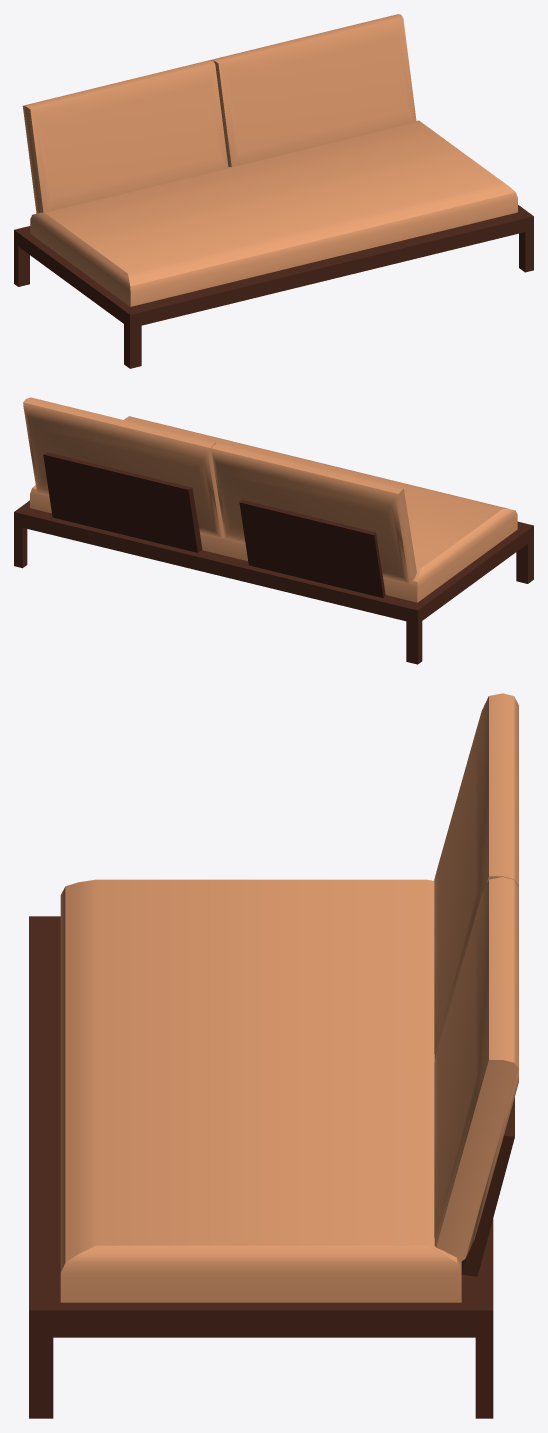
File: GarTwoSeat.fbx
3 renders of one model, top to bottom at view 1: azimuth 30°, elevation 25°; view 2: azimuth 150°, elevation 25°; view 3: azimuth 270°, elevation 25°, orthographic. The views are drawn at different scales.
Parts seen in each view (by area): view 1: TwoSeat; view 2: TwoSeat; view 3: TwoSeat.
Boxes of the visible parts, box(x1,y1,x2,y2) form: TwoSeat: box(14, 14, 533, 368); TwoSeat: box(14, 397, 533, 664); TwoSeat: box(29, 693, 518, 1418).
Bounding box in the file's own units: 161 × 65.48 × 84.39.
